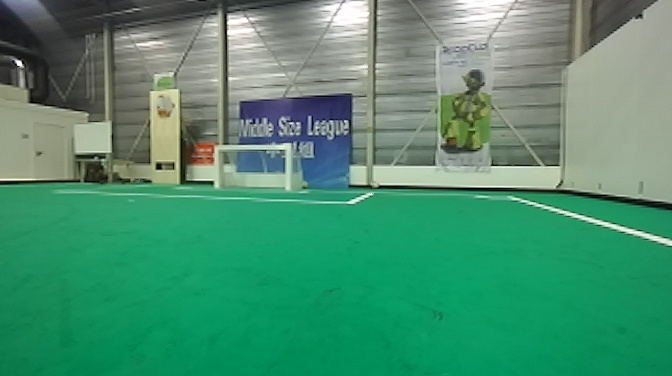ball: (367, 180, 384, 191)
goalpost: (281, 139, 297, 195), (211, 143, 226, 187)
